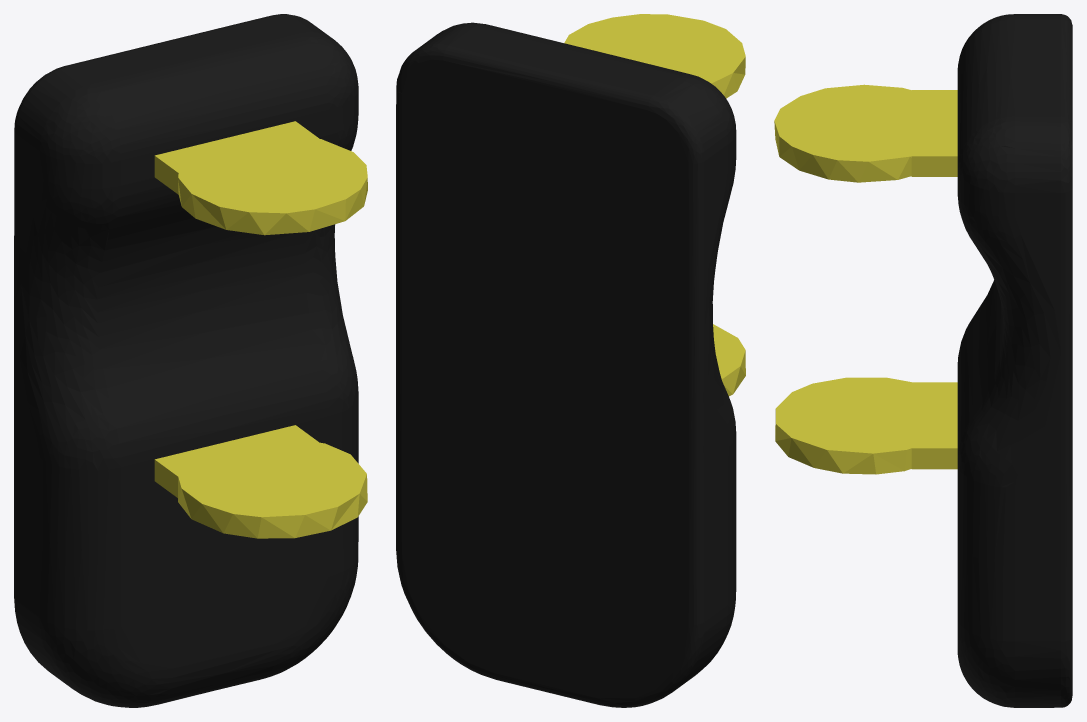
Rendered from foot_sinister_collision.obj.
The picture shows the model from 3 angles, left to right: view 1: azimuth 30°, elevation 25°; view 2: azimuth 150°, elevation 25°; view 3: azimuth 270°, elevation 25°; orthographic projection. The views are drawn at different scales.
Visible parts, largest first — view 1: Body1:1, Body4, Body3, Body1, Body2; view 2: Body1:1, Body4, Body3; view 3: Body1:1, Body4, Body3, Body1, Body2.
Part boxes in pixels (x1,y1,x2,y2): Body1:1: [14, 14, 358, 707]; Body4: [178, 133, 367, 235]; Body3: [178, 437, 367, 538]; Body1: [154, 425, 318, 497]; Body2: [154, 121, 319, 194]; Body1:1: [396, 22, 736, 707]; Body4: [564, 14, 745, 98]; Body3: [713, 324, 745, 396]; Body1:1: [957, 14, 1072, 707]; Body4: [774, 84, 956, 182]; Body3: [775, 377, 956, 474]; Body1: [911, 382, 957, 469]; Body2: [911, 90, 957, 176].
Bounding box in the file's own units: 15 × 29 × 12.96.
